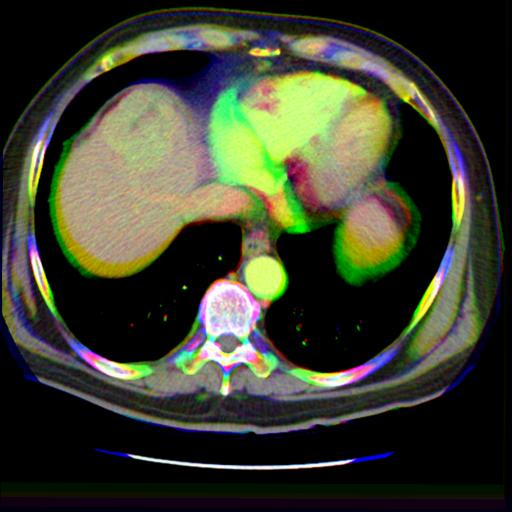Tumor: (102, 84, 186, 169)
